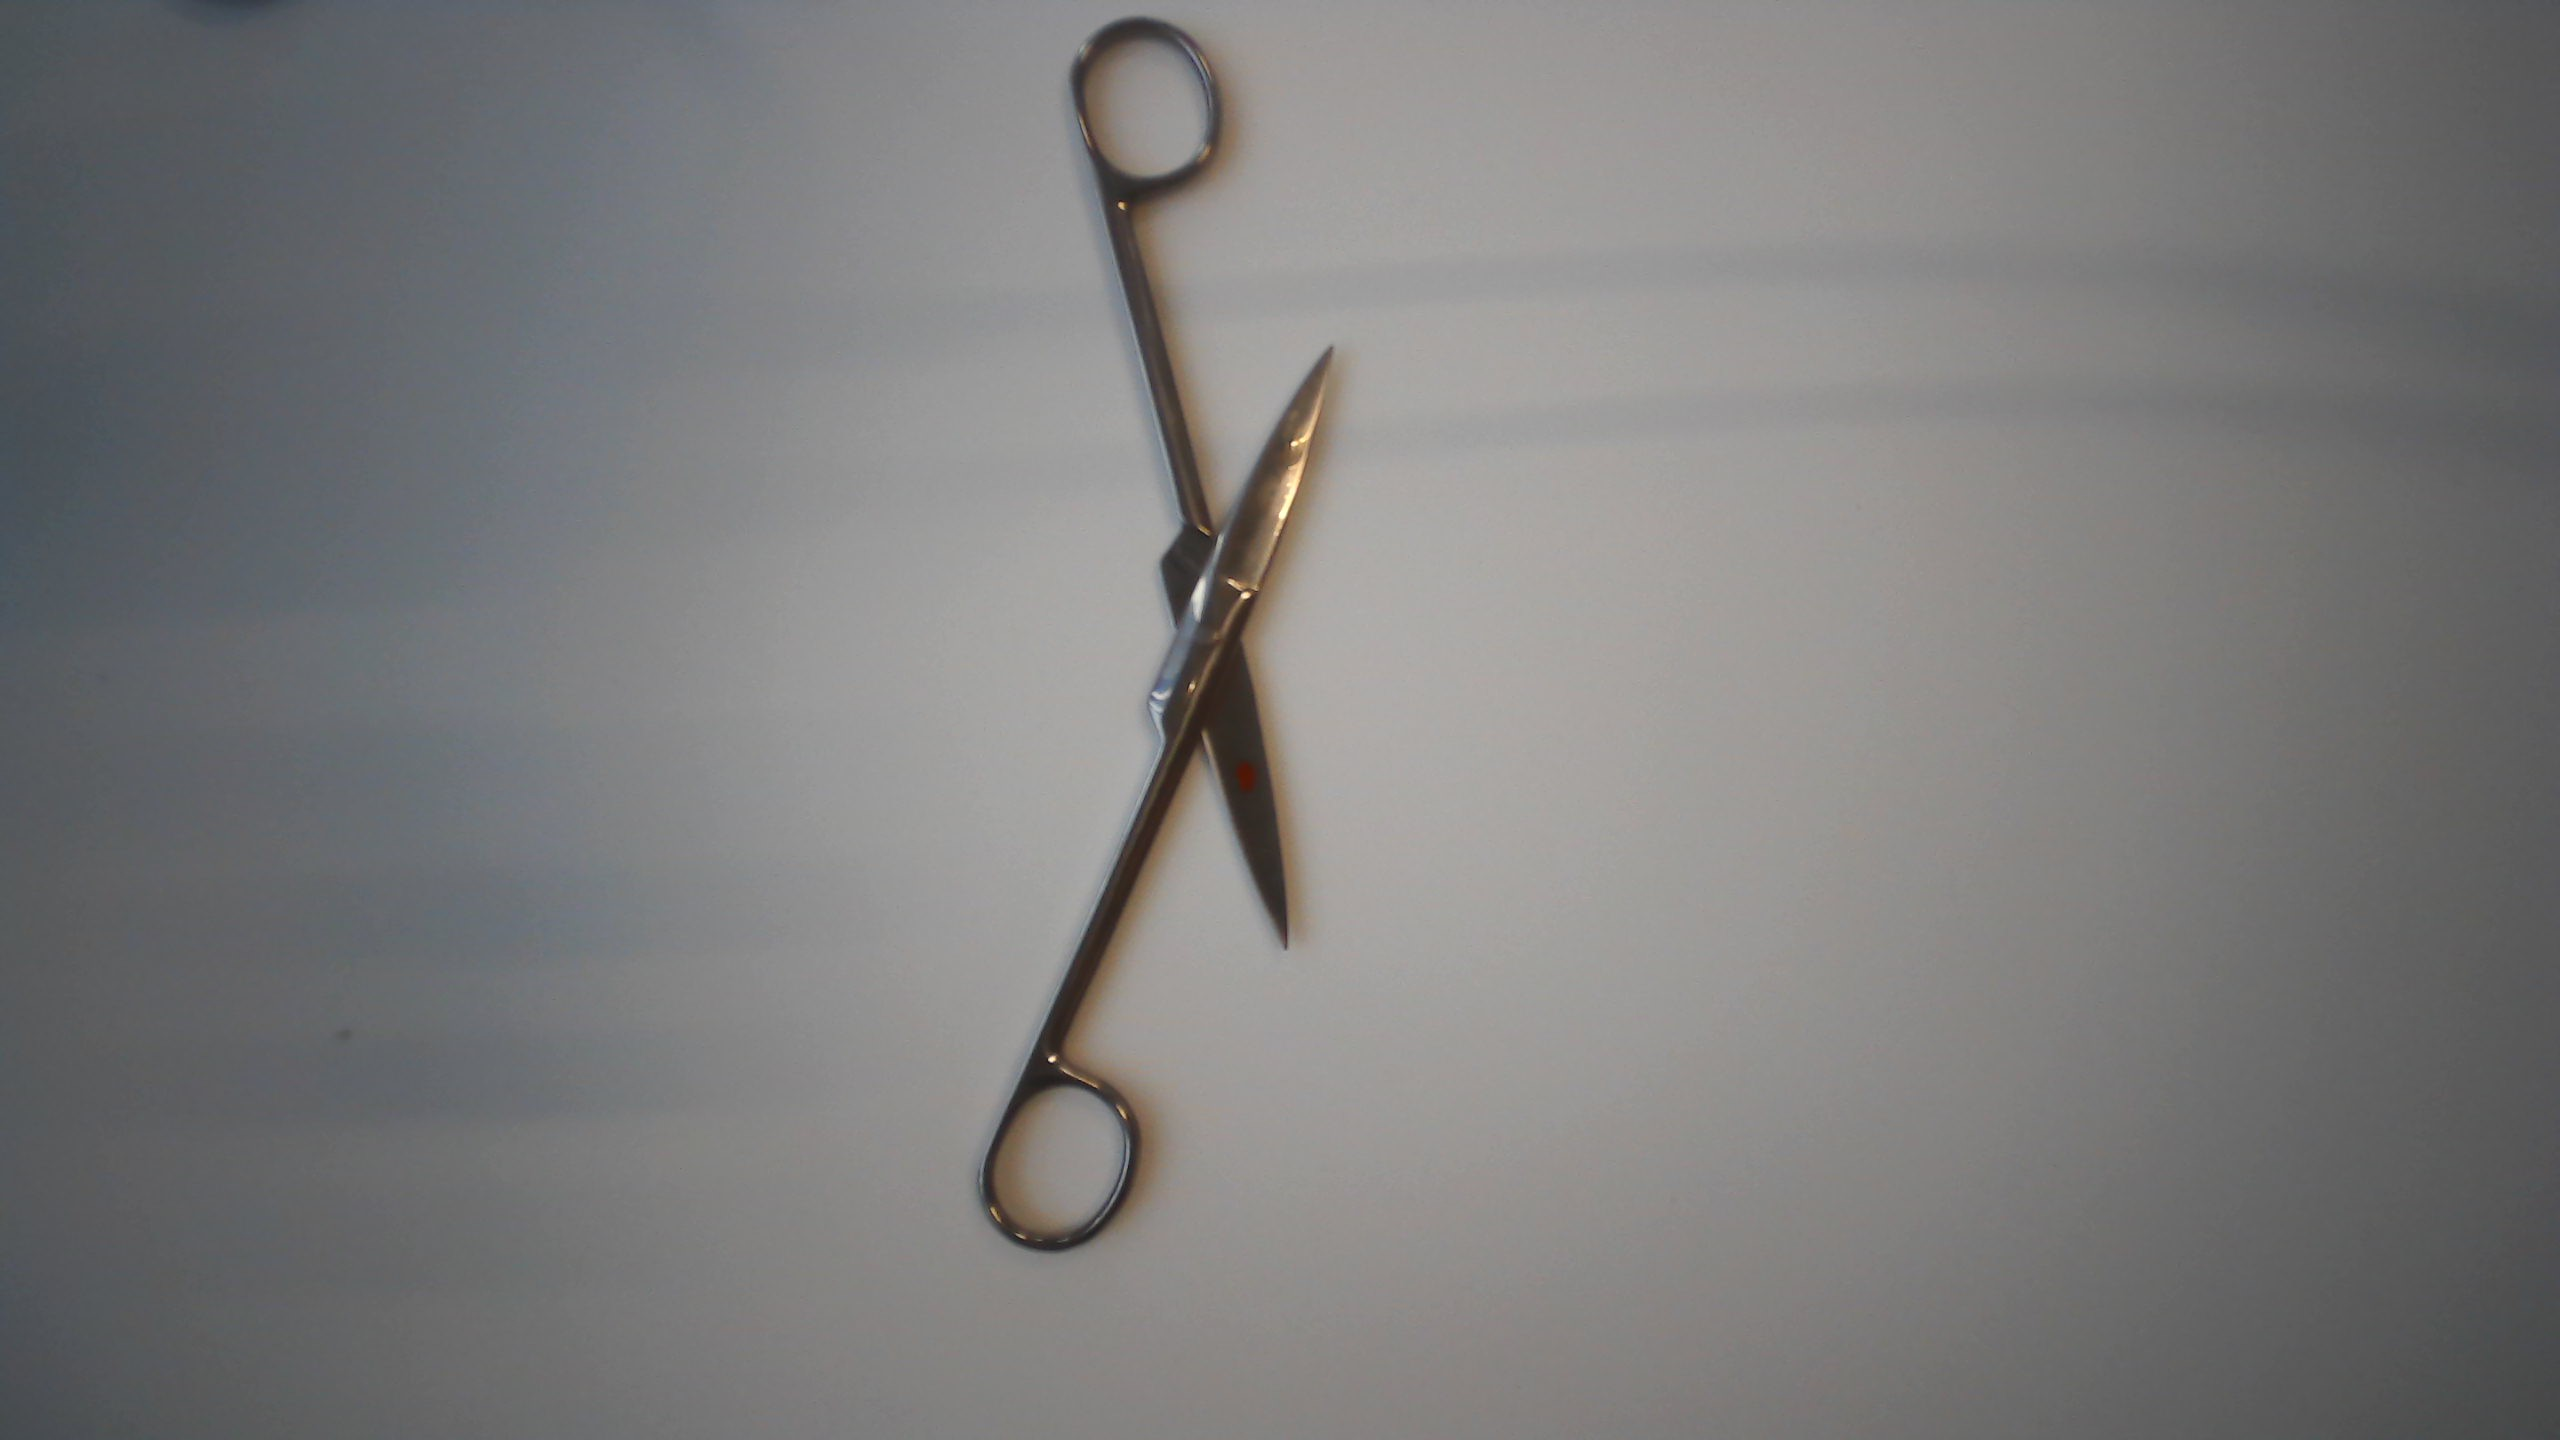Stain: (1225, 758, 1257, 804)
